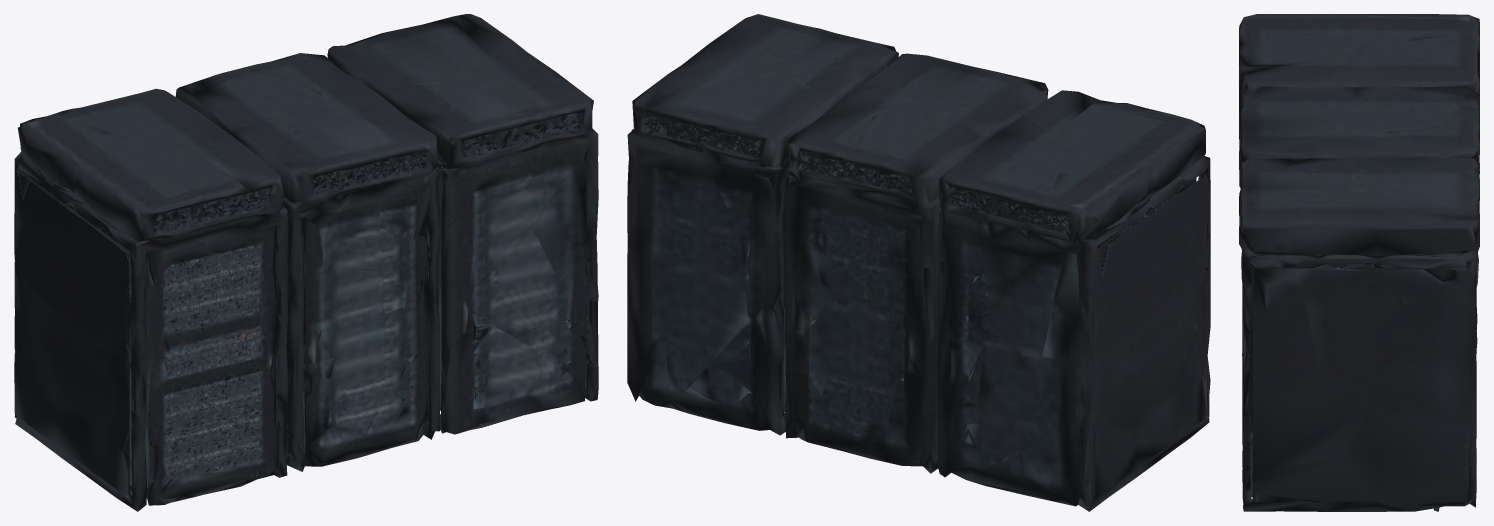
File: co_racks_p.glb
3 renders of one model, left to right at view 1: azimuth 30°, elevation 25°; view 2: azimuth 150°, elevation 25°; view 3: azimuth 270°, elevation 25°, orthographic. The views are drawn at different scales.
Size of the model in its own units: 1.9 by 1.19 by 0.8852.
1 material, 1 textured.
